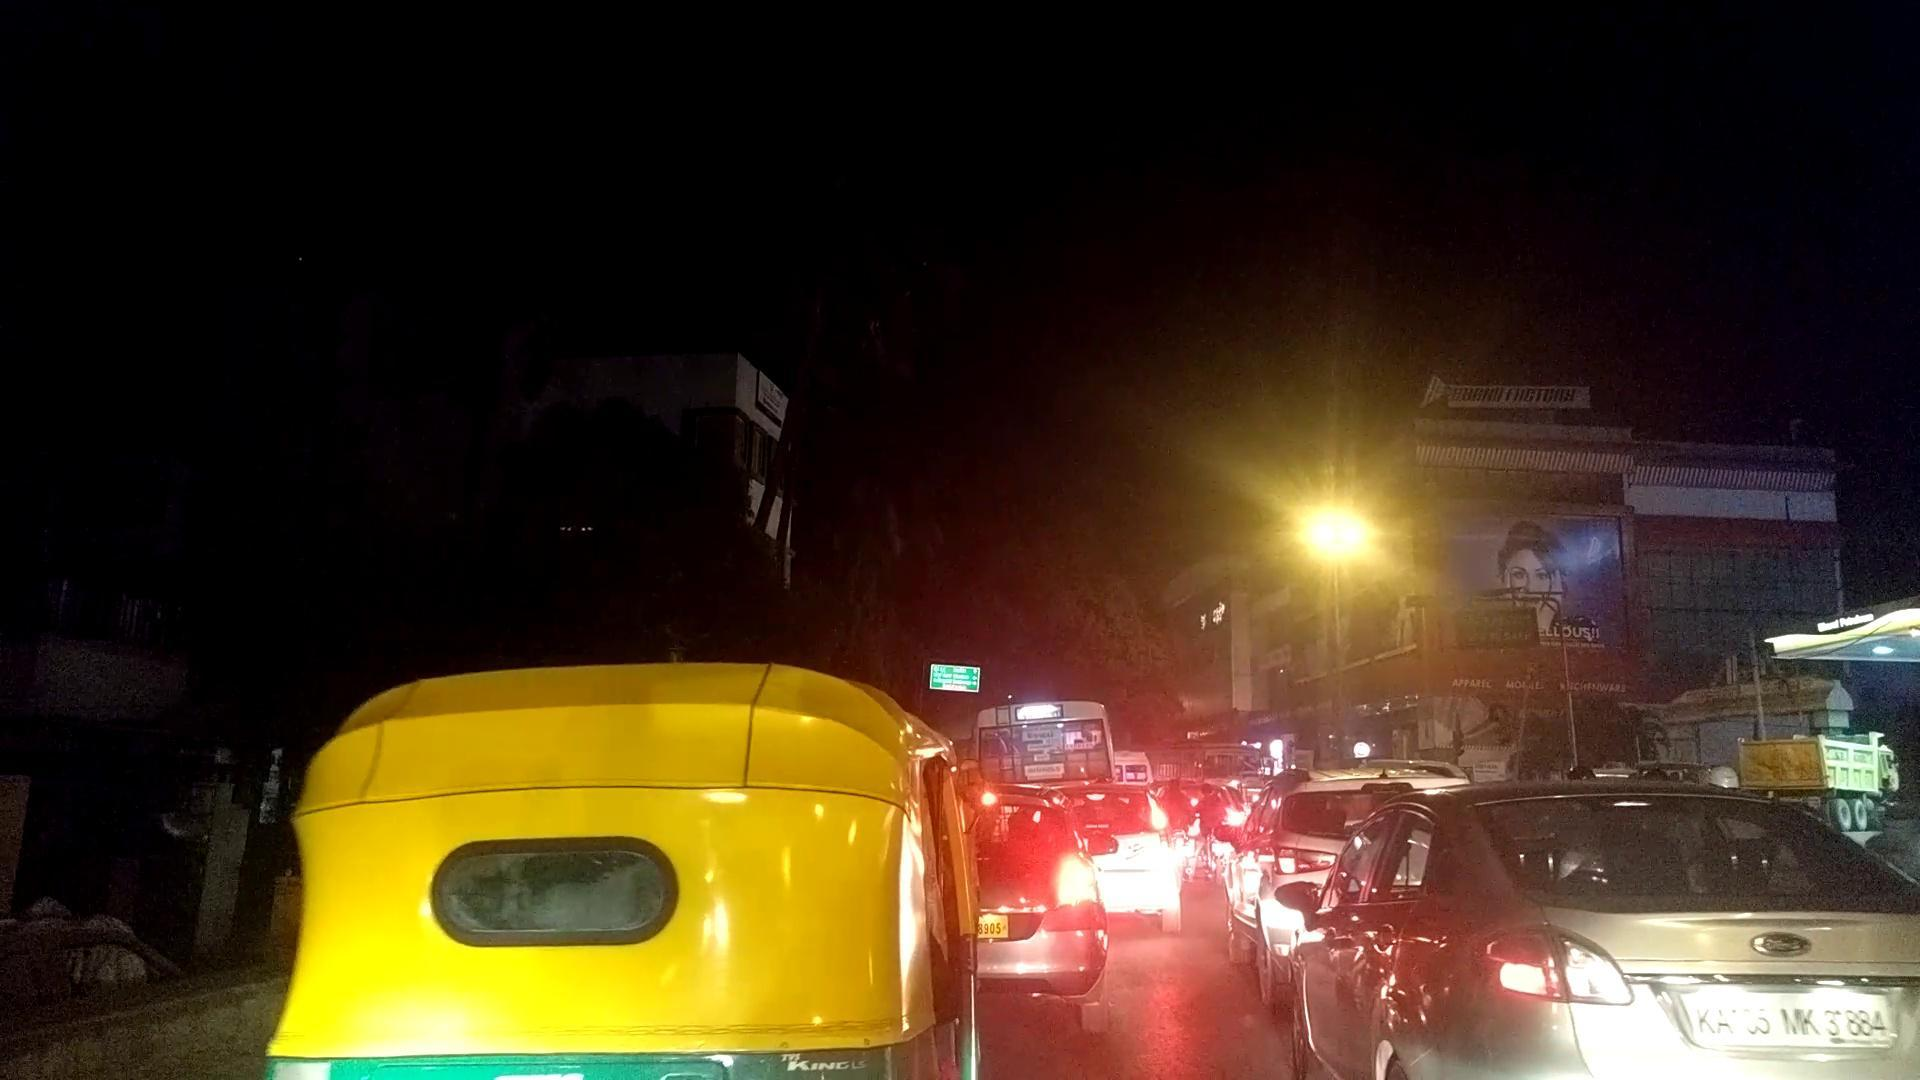on: (1160, 372, 1527, 756)
